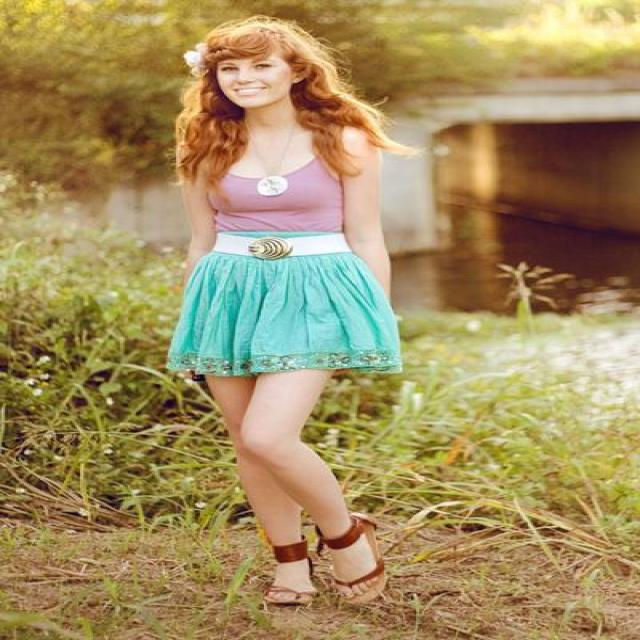shirt: (205, 166, 349, 252)
shoe: (272, 526, 325, 575)
skirt: (165, 252, 400, 376)
